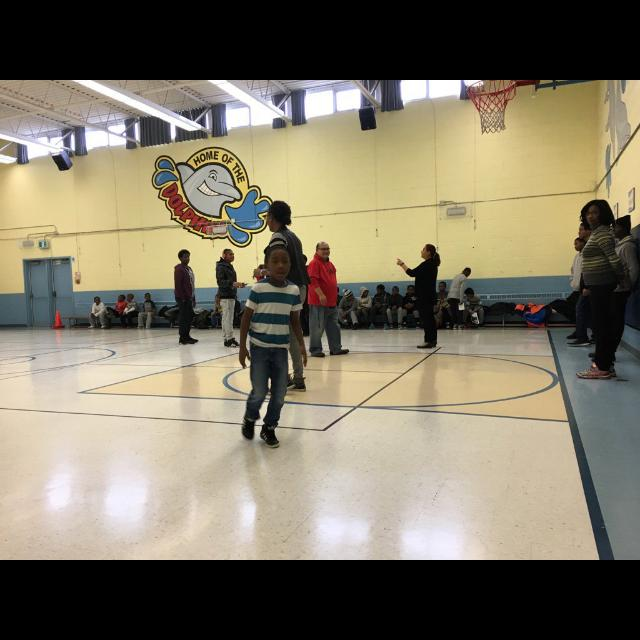head: (264, 245, 292, 281), (266, 201, 292, 233), (586, 199, 608, 227), (612, 218, 632, 240), (315, 241, 331, 259), (578, 222, 594, 240), (420, 245, 436, 259), (574, 237, 588, 253), (179, 250, 191, 264), (223, 249, 235, 263), (345, 290, 355, 302), (406, 284, 416, 296), (462, 268, 472, 278), (376, 285, 386, 295), (466, 288, 474, 300), (361, 288, 369, 298), (439, 282, 447, 292), (118, 295, 126, 303), (127, 294, 135, 302), (215, 295, 223, 303), (392, 288, 400, 296), (95, 296, 102, 304), (145, 294, 151, 300)
person: (238, 243, 308, 449), (252, 199, 312, 393), (574, 198, 636, 382), (306, 241, 352, 359), (395, 243, 443, 351), (566, 220, 604, 348), (214, 248, 250, 348), (565, 234, 595, 340), (173, 248, 200, 346), (448, 266, 474, 334), (367, 284, 395, 332), (461, 286, 487, 330), (384, 285, 408, 331), (336, 289, 362, 331), (432, 280, 453, 330), (400, 284, 422, 330), (104, 294, 130, 330), (118, 293, 142, 331), (354, 286, 374, 330), (136, 292, 158, 331), (208, 293, 228, 331), (87, 296, 109, 330)
